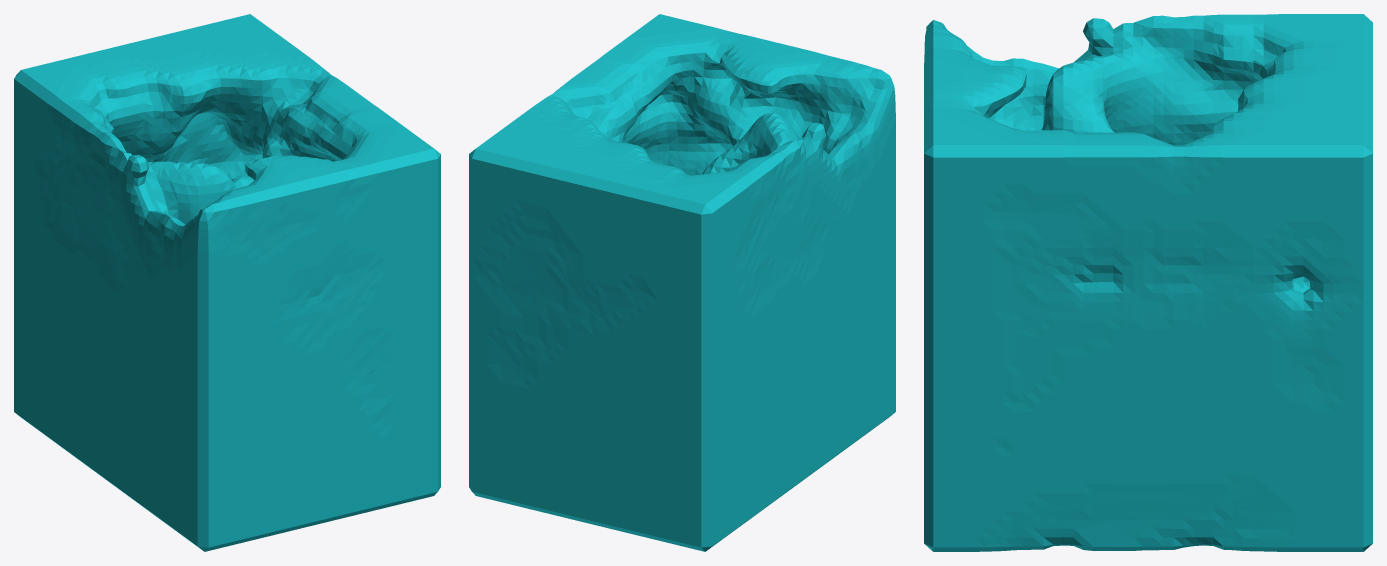
The picture shows the model from 3 angles, left to right: view 1: azimuth 30°, elevation 25°; view 2: azimuth 150°, elevation 25°; view 3: azimuth 270°, elevation 25°; orthographic projection. The views are drawn at different scales.
Parts seen in each view (by area): view 1: Liquid_Domain; view 2: Liquid_Domain; view 3: Liquid_Domain.
Boxes of the visible parts, x1,y1,x2,y2 form: Liquid_Domain: [14, 14, 440, 551]; Liquid_Domain: [469, 14, 895, 551]; Liquid_Domain: [924, 14, 1372, 551].
Size of the model in its own units: 79.09 by 108 by 108.
